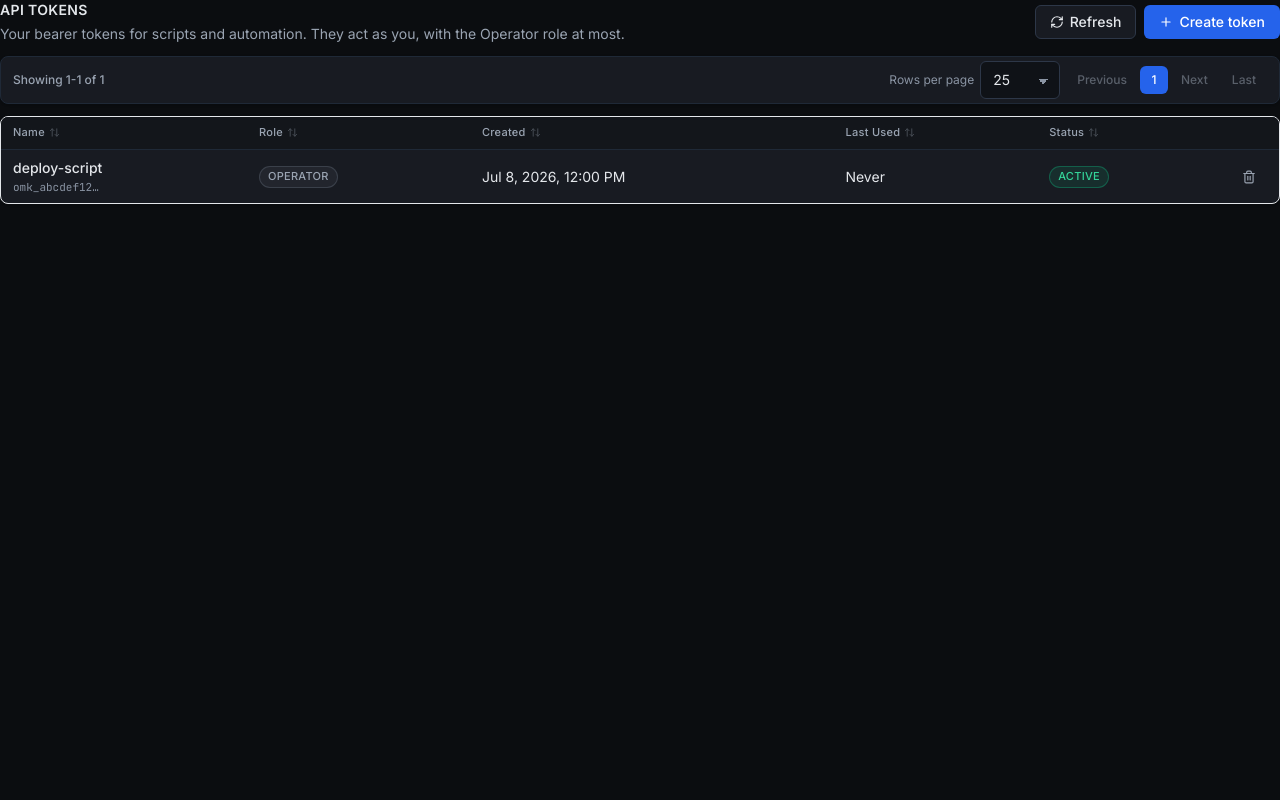
it: ApiTokensSection › shows a failed create inside the dialog
Click the button "Create token".
click(1212, 22)  # box [1144,5,1279,39]
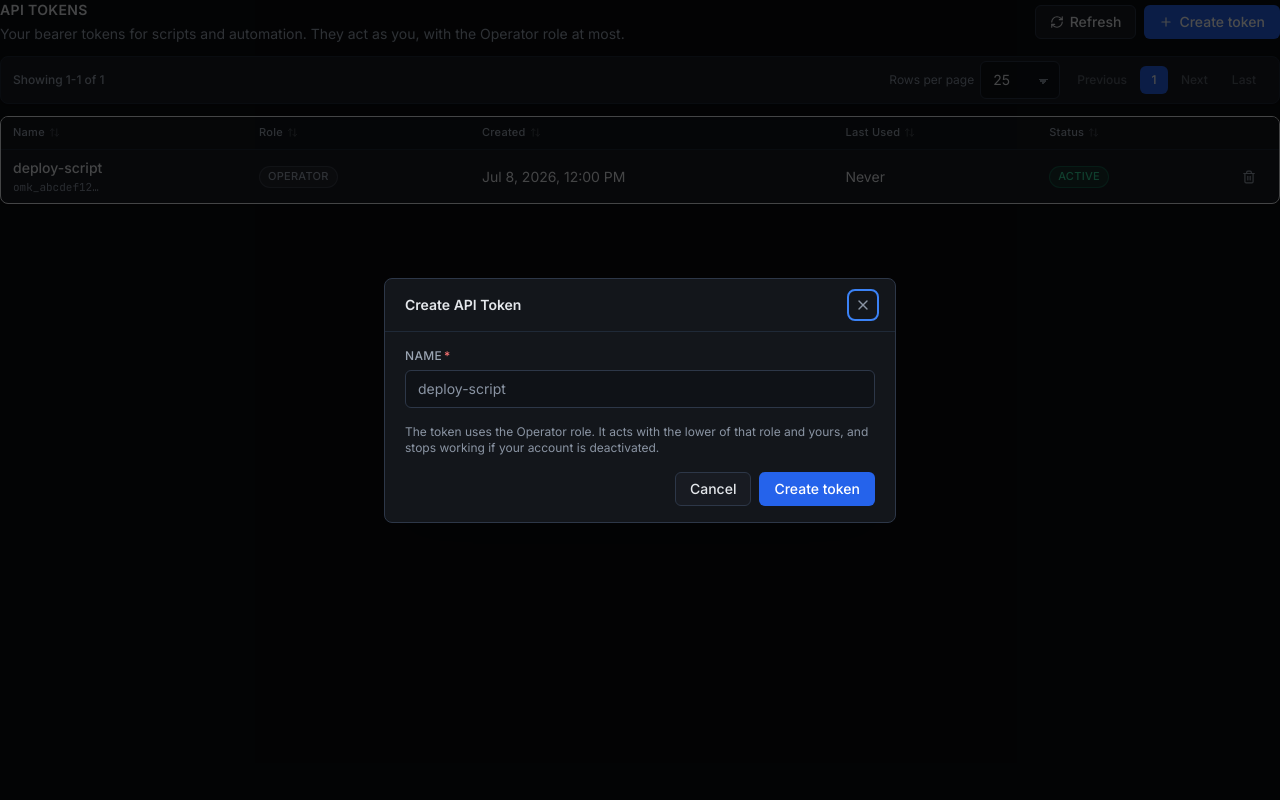
Type "ci" into the field labelled "Name".
click(640, 388); type("ci")  # box [405,370,875,408]
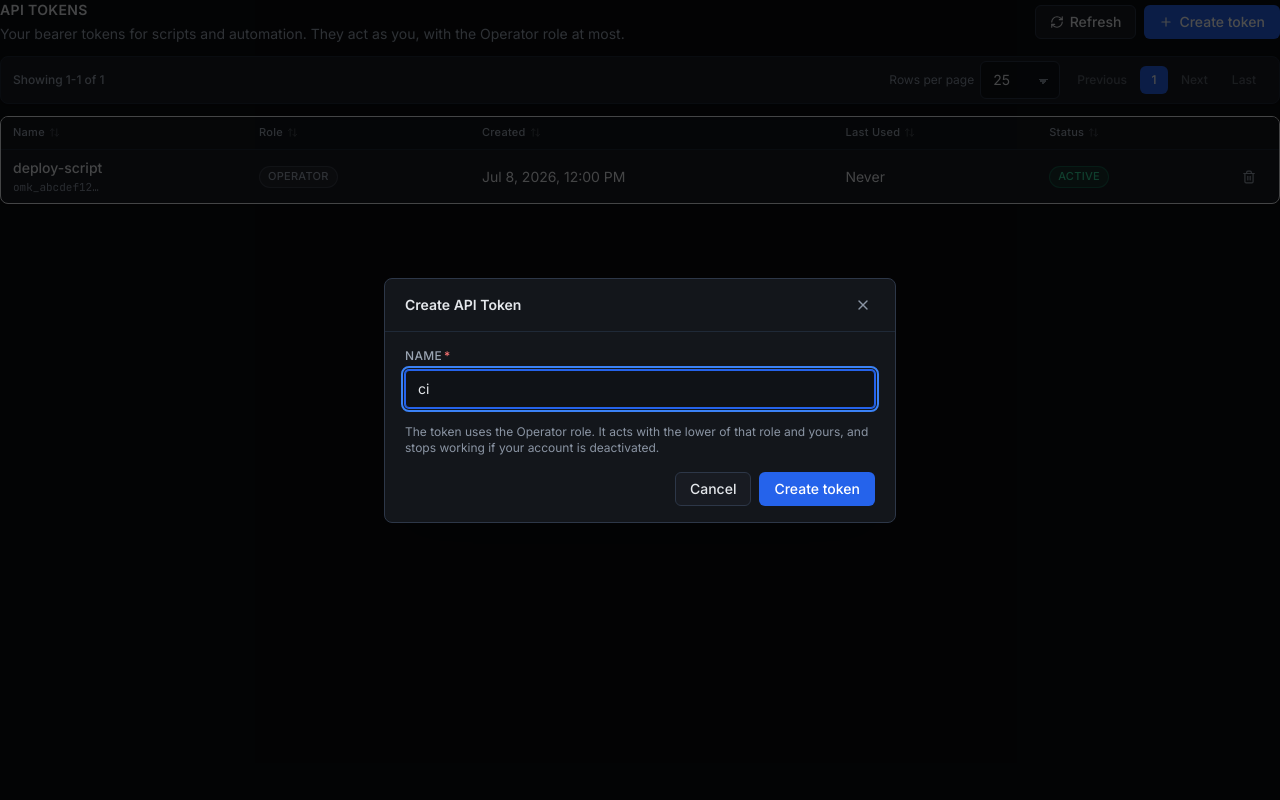
Click the button "Create token".
click(817, 488)  # box [759,472,875,506]
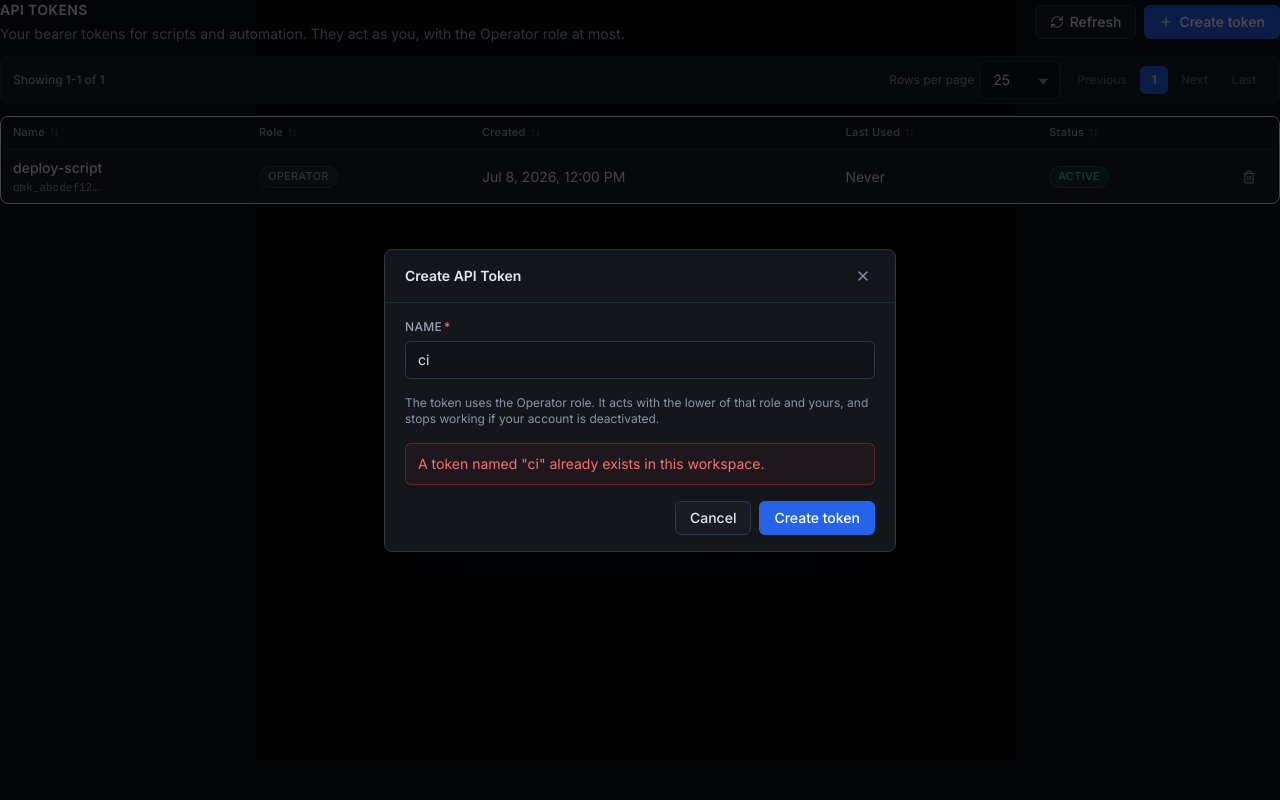
Check: the text "A token named \"ci\" already exists in this workspace." is shown, box [405,442,875,484]
